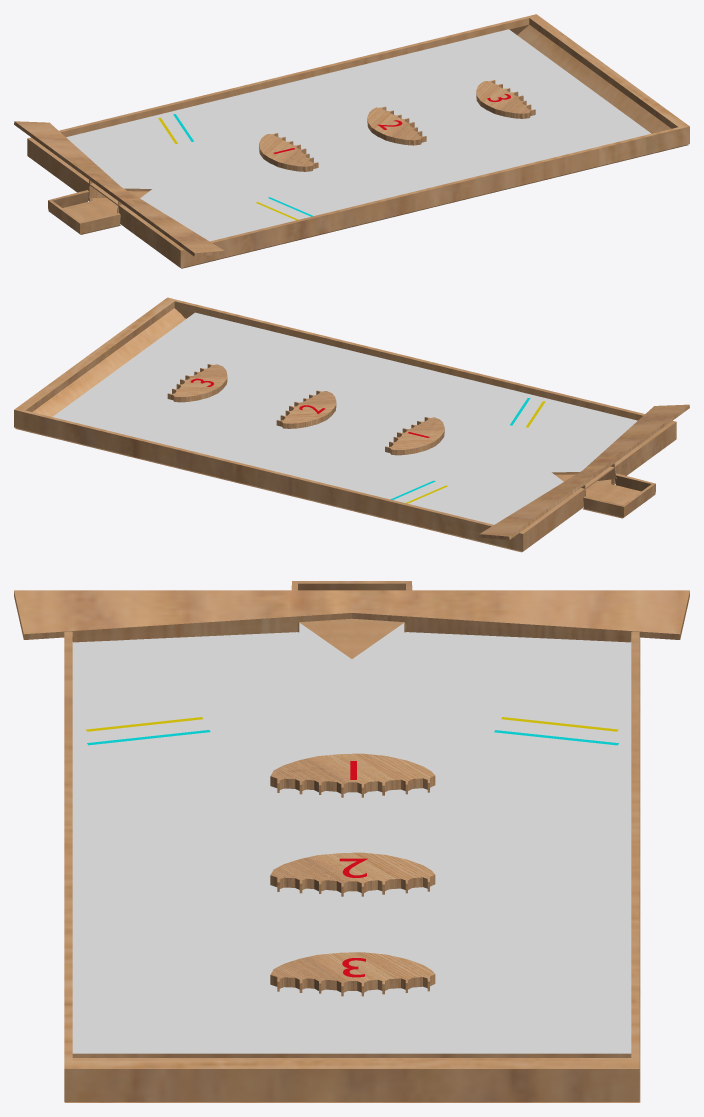
The model's file is yoTyanTableV6.fbx.
The picture shows the model from 3 angles, top to bottom: view 1: azimuth 30°, elevation 25°; view 2: azimuth 150°, elevation 25°; view 3: azimuth 270°, elevation 25°; orthographic projection. The views are drawn at different scales.
Parts seen in each view (by area): view 1: yoTyanTable.003, BallZone.003, SlotPlates.012, SlotPlates.011, SlotPlates.010; view 2: yoTyanTable.003, BallZone.003, SlotPlates.012, SlotPlates.011, SlotPlates.010; view 3: yoTyanTable.003, BallZone.003, SlotPlates.012, SlotPlates.010, SlotPlates.011.
Part boxes in pixels (<box>): yoTyanTable.003: <box>27,14,689,268</box>; BallZone.003: <box>14,121,224,256</box>; SlotPlates.012: <box>259,133,318,171</box>; SlotPlates.011: <box>367,106,426,145</box>; SlotPlates.010: <box>476,80,535,118</box>; yoTyanTable.003: <box>14,297,676,552</box>; BallZone.003: <box>479,404,689,539</box>; SlotPlates.012: <box>385,417,444,455</box>; SlotPlates.011: <box>276,390,336,428</box>; SlotPlates.010: <box>167,364,227,402</box>; yoTyanTable.003: <box>64,581,640,1102</box>; BallZone.003: <box>14,590,689,642</box>; SlotPlates.012: <box>270,753,435,797</box>; SlotPlates.010: <box>270,952,435,996</box>; SlotPlates.011: <box>270,852,435,896</box>.
Size of the model in its own units: 489 by 23.02 by 278.
5 materials, 1 textured.
